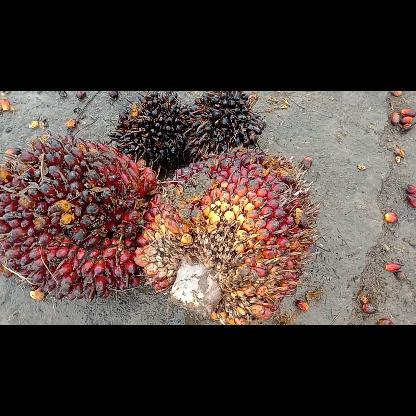TBS abnormal: (106, 91, 194, 175), (187, 91, 266, 155)
TBS masak: (132, 142, 320, 324), (0, 129, 158, 304)
